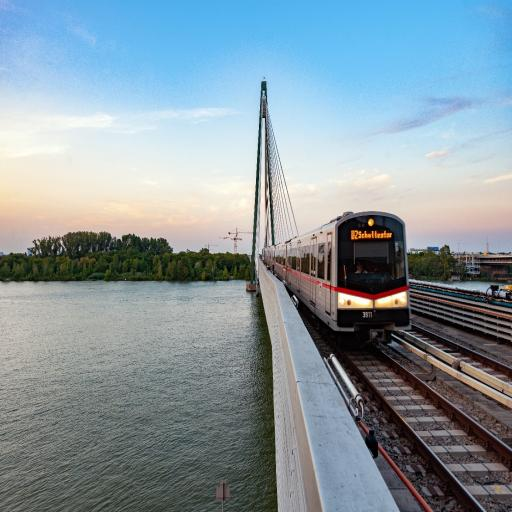V-Wagen: (262, 202, 411, 340)
